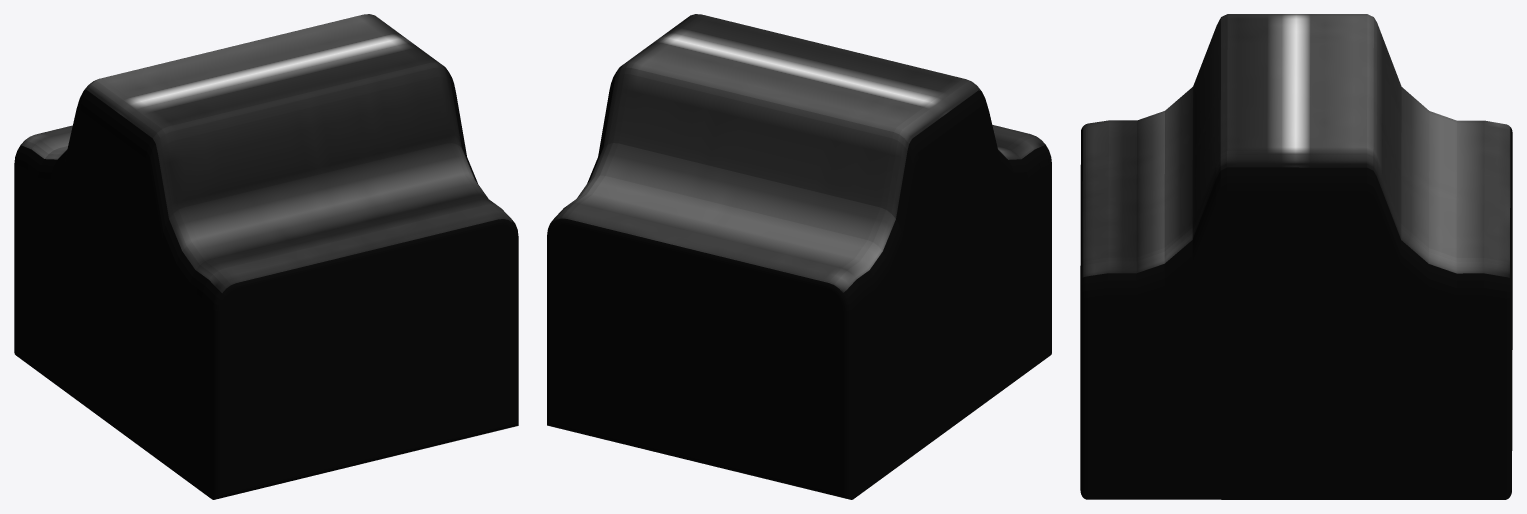
The model's file is tempo-left.glb.
The picture shows the model from 3 angles, left to right: view 1: azimuth 30°, elevation 25°; view 2: azimuth 150°, elevation 25°; view 3: azimuth 270°, elevation 25°; orthographic projection. The views are drawn at different scales.
Visible parts, largest first — view 1: Cube.849; view 2: Cube.849; view 3: Cube.849.
Boxes of the visible parts, x1,y1,x2,y2 form: Cube.849: (14,14,518,499); Cube.849: (547,14,1051,499); Cube.849: (1080,14,1512,499).
Bounding box in the file's own units: 0.0408 × 0.0408 × 0.0473.
Materials: 1 (1 with a texture image).
